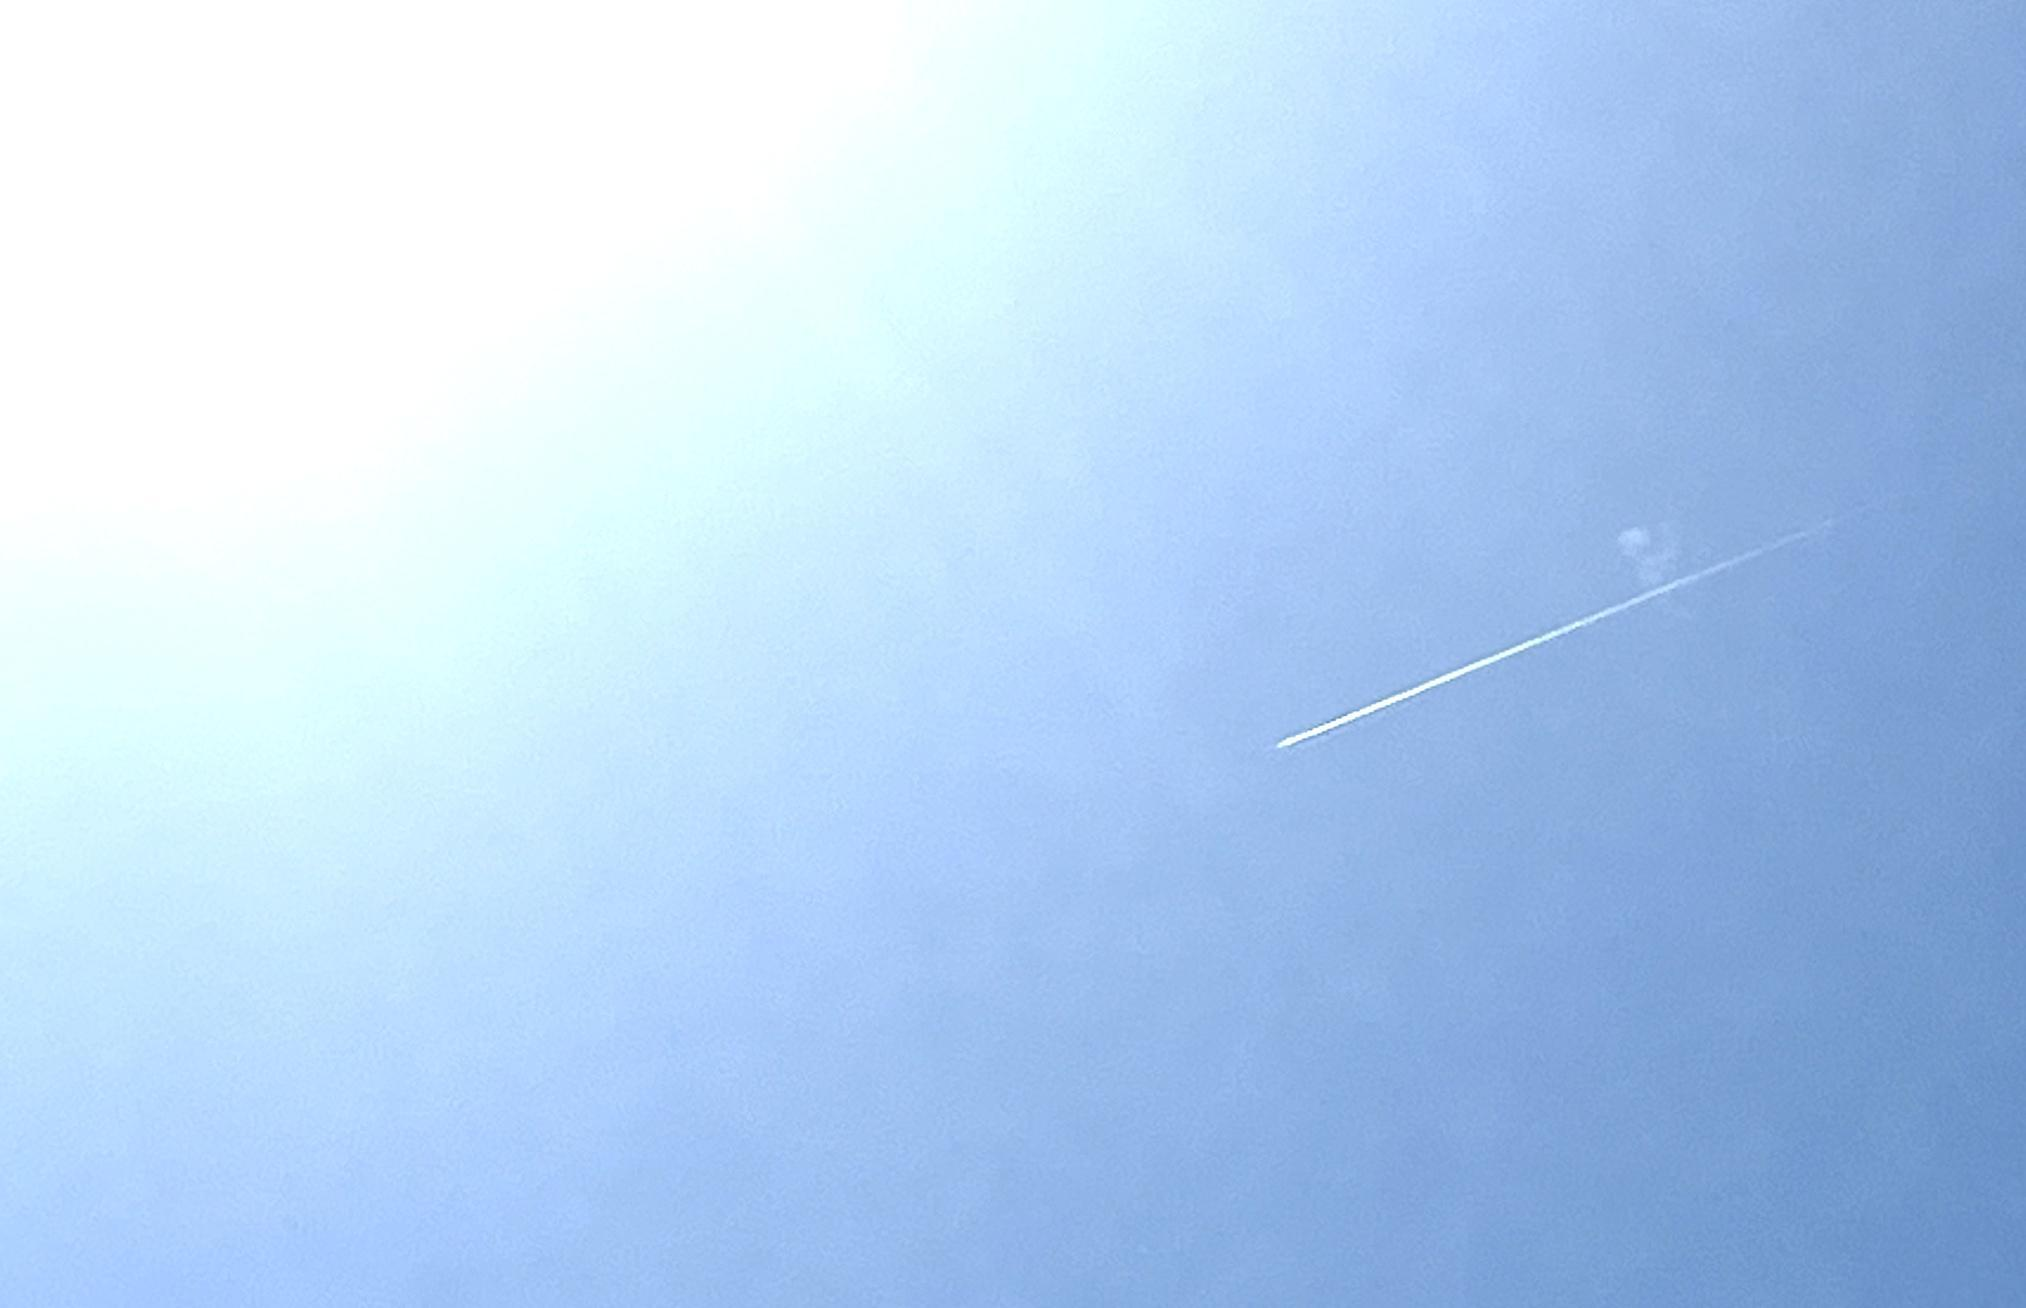Plane: (1226, 486, 1920, 753)
